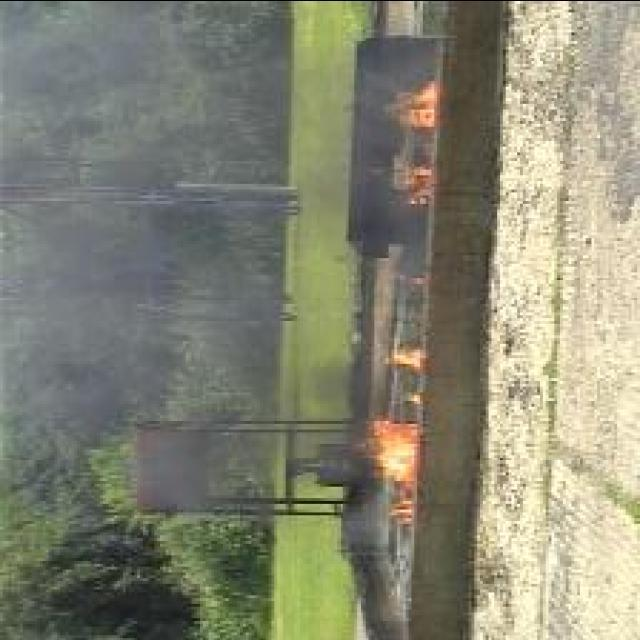Fire: (366, 414, 418, 522), (397, 77, 437, 132), (402, 162, 429, 204), (383, 342, 420, 368)
